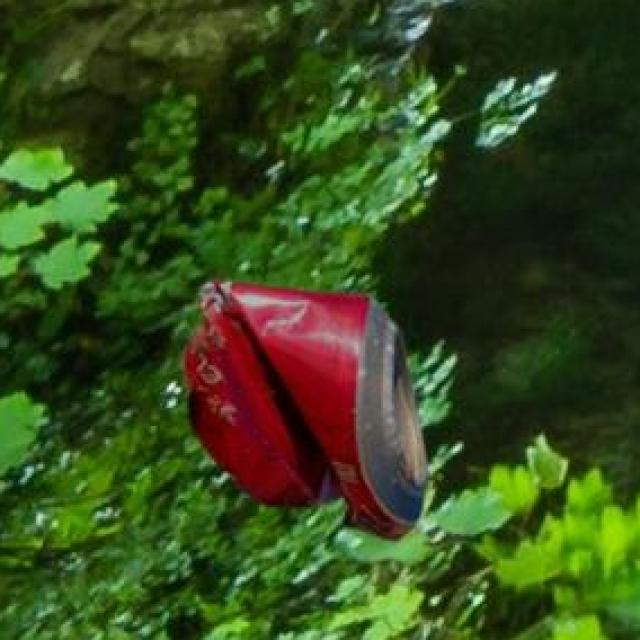logam: (186, 283, 432, 544)
